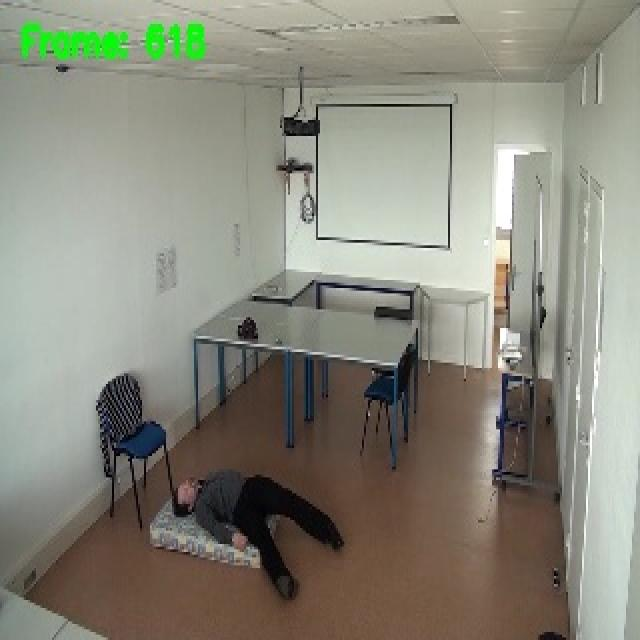Fall: (169, 472, 344, 600)
